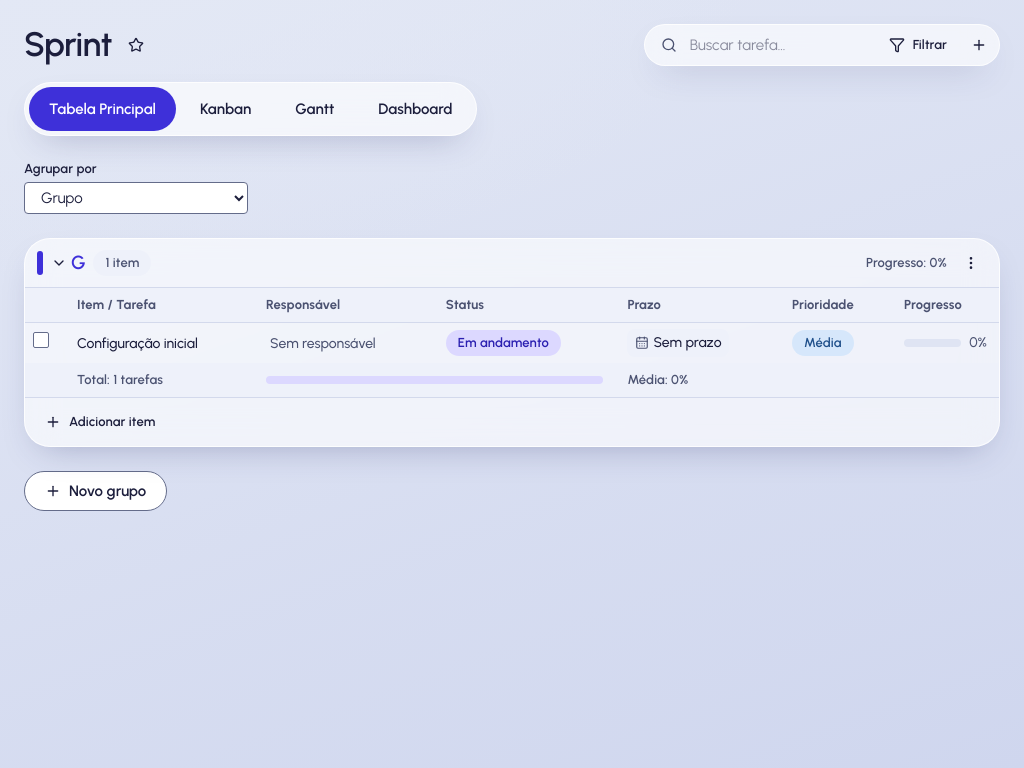
Test: busca e filtros nas visões do board › Tabela › a busca ignora acento e maiúscula
expect the heading "G" is shown: met, box [71,251,85,275]
Type "CONFIGURACAO" into the search field named "Buscar neste quadro".
click(761, 45); type("CONFIGURACAO")  # box [649,29,873,61]
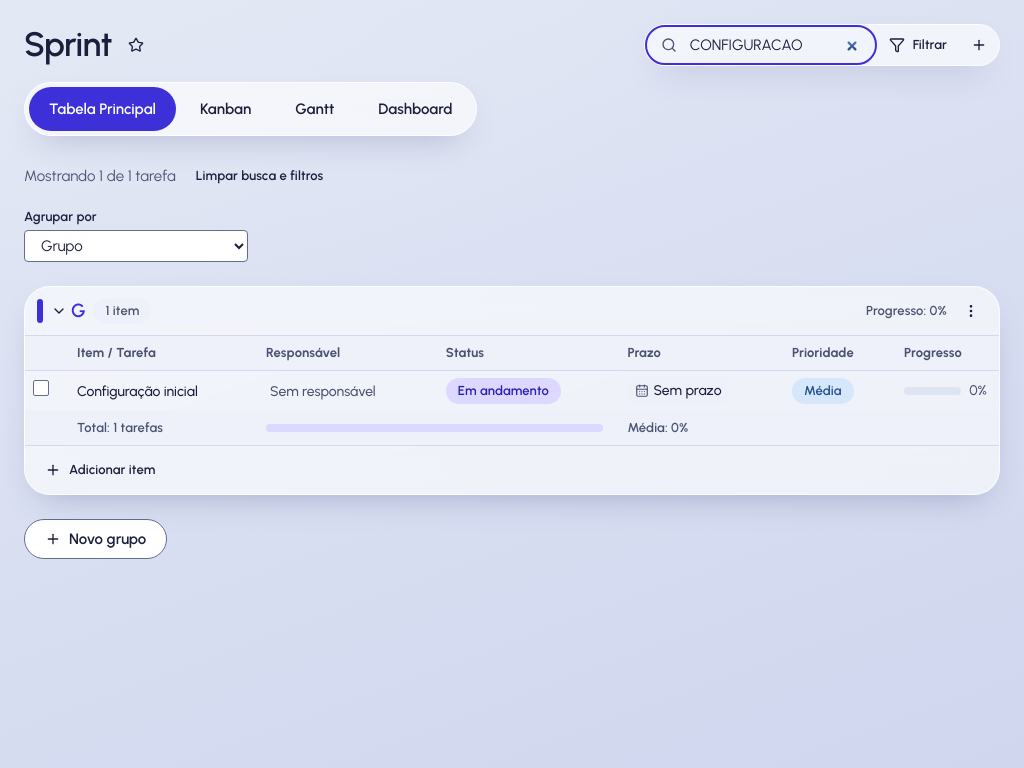
expect the text "Mostrando 1 de 1 tarefa" is shown: met, box [24,165,176,187]
